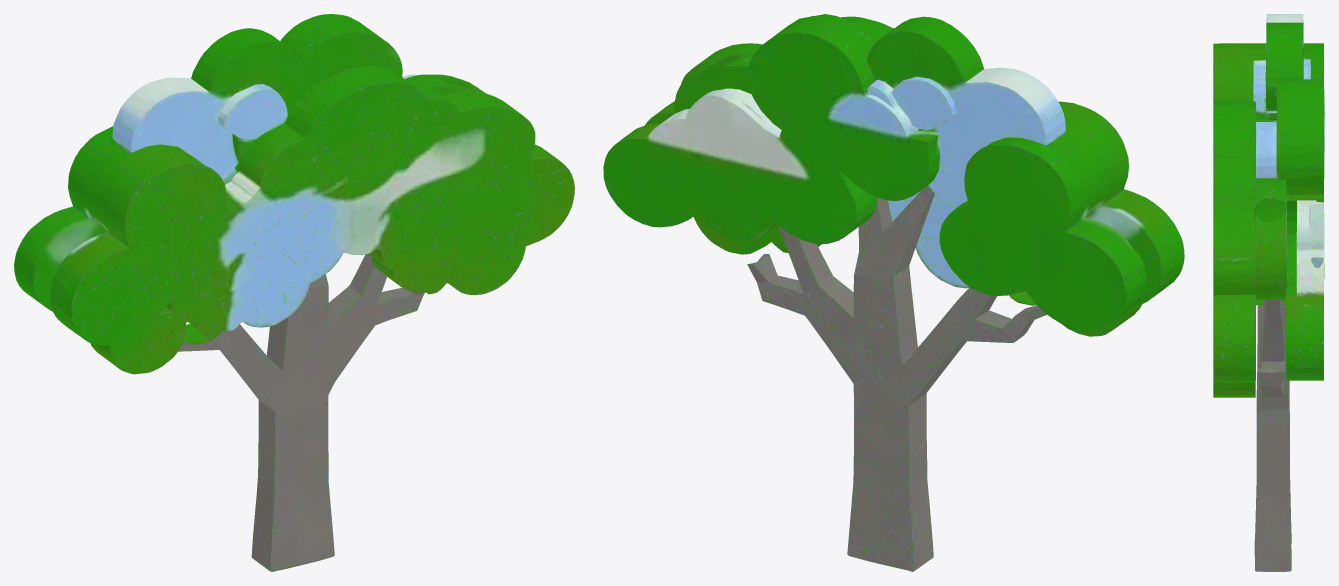
The model's file is oak.glb.
The picture shows the model from 3 angles, left to right: view 1: azimuth 30°, elevation 25°; view 2: azimuth 150°, elevation 25°; view 3: azimuth 270°, elevation 25°; orthographic projection. The views are drawn at different scales.
Visible parts, largest first — view 1: geometry_0; view 2: geometry_0; view 3: geometry_0.
Part boxes in pixels (box(x1,y1,x2,y2)): geometry_0: box(14, 14, 574, 571); geometry_0: box(603, 14, 1184, 571); geometry_0: box(1213, 14, 1324, 571).
Size of the model in its own units: 1 by 1 by 0.197.
Materials: 1 (1 with a texture image).
